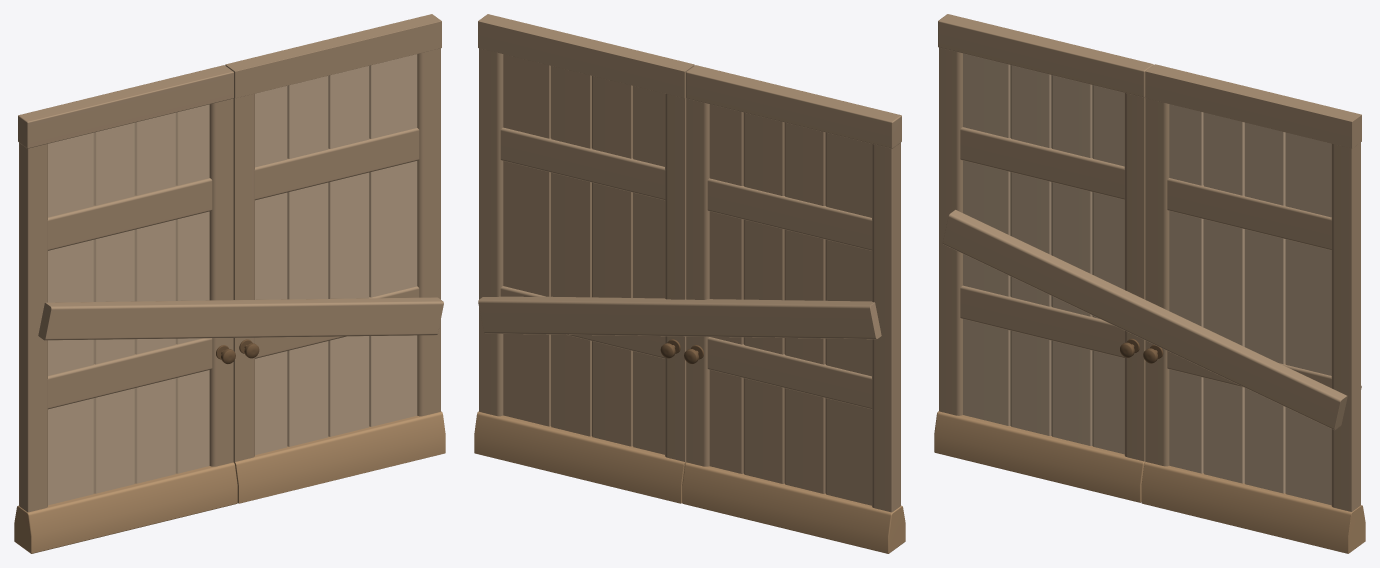
The model's file is SM_Door_Double_Breakable_01_State-0.fbx.
The picture shows the model from 3 angles, left to right: view 1: azimuth 30°, elevation 25°; view 2: azimuth 150°, elevation 25°; view 3: azimuth 330°, elevation 25°; orthographic projection.
Visible parts, largest first — view 1: SM_Door_R.002, SM_Door_R.003, Cylinder.002; view 2: SM_Door_R.002, SM_Door_R.003, Cylinder.002; view 3: SM_Door_R.002, SM_Door_R.003, Cylinder.002.
Boxes of the visible parts, x1,y1,x2,y2 form: SM_Door_R.002: (38,14,445,503); SM_Door_R.003: (14,65,237,553); Cylinder.002: (216,339,259,364); SM_Door_R.002: (474,14,881,503); SM_Door_R.003: (682,65,905,553); Cylinder.002: (660,339,703,364); SM_Door_R.002: (942,64,1365,553); SM_Door_R.003: (934,14,1153,502); Cylinder.002: (1120,338,1163,363).
Size of the model in its own units: 301 by 298 by 31.37.
